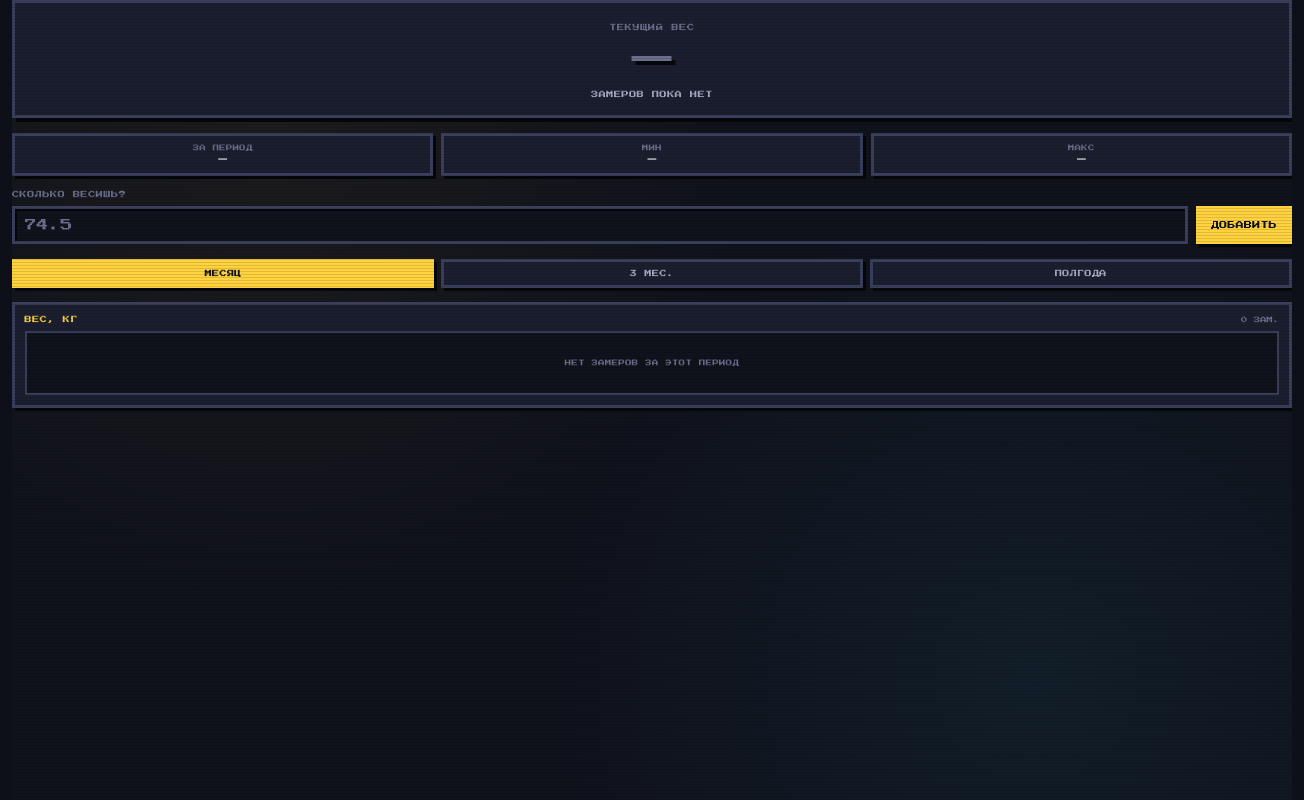
Test: WeightPageComponent › validation › refuses text
Type "много" into the field with class "entry-input".
click(600, 225); type("много")  # box [12,206,1188,244]
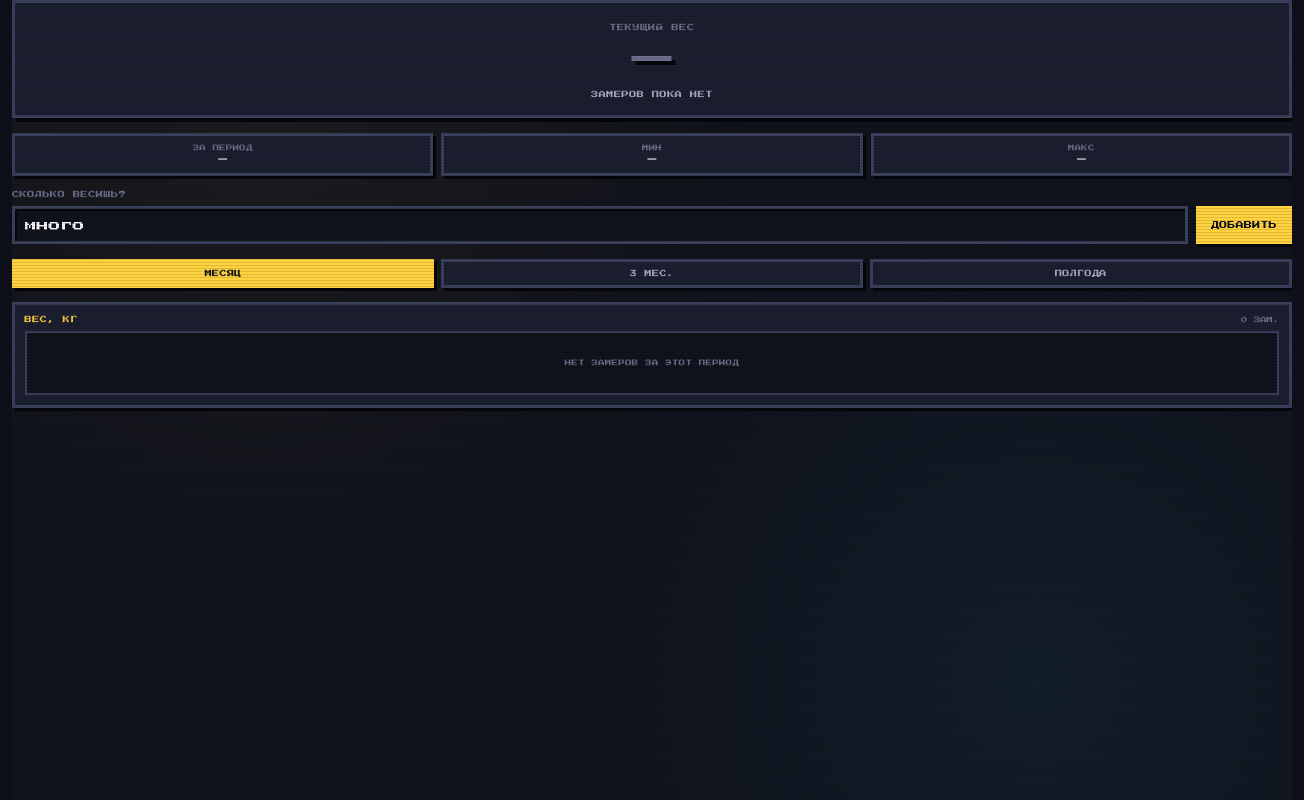
Submit the form with class "entry-form", box [12,191,1292,244]
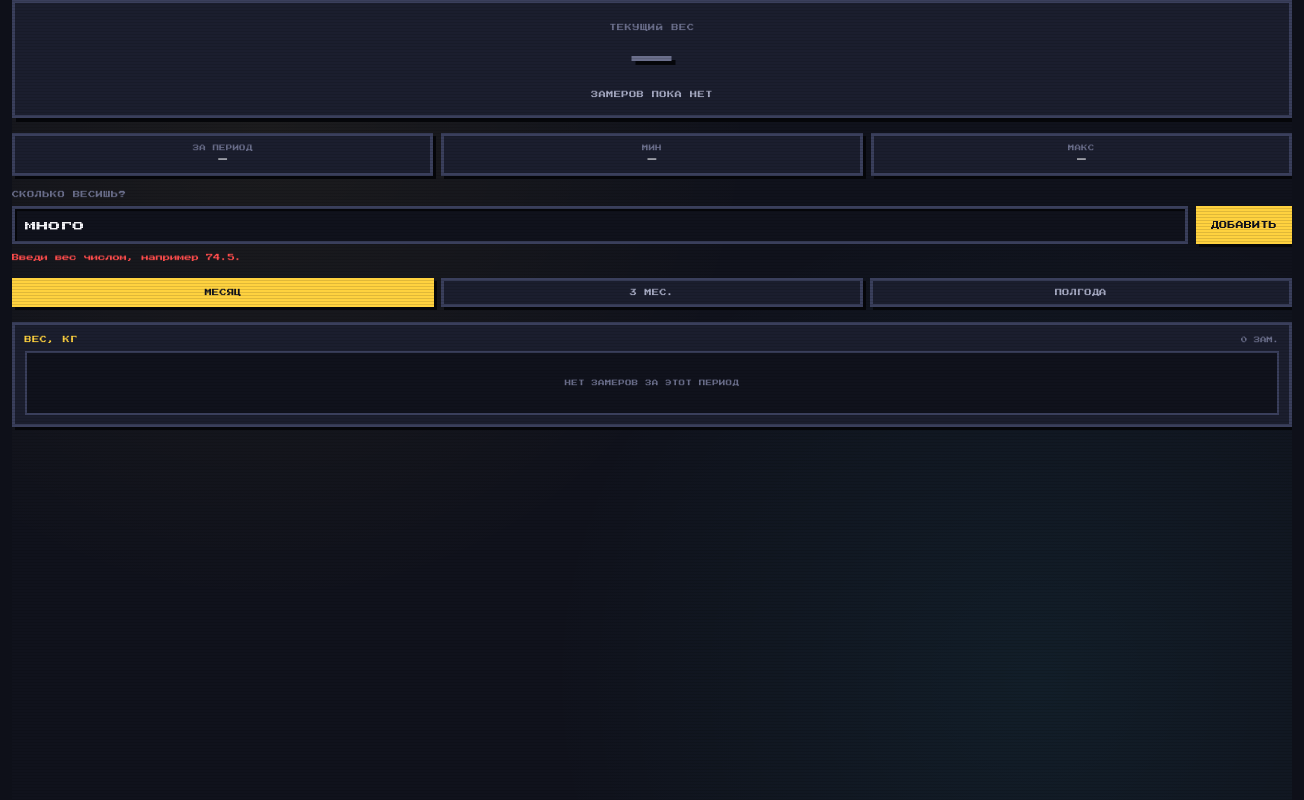
Expected: the message with class "entry-error" shows "числом", [12,254,242,261]
